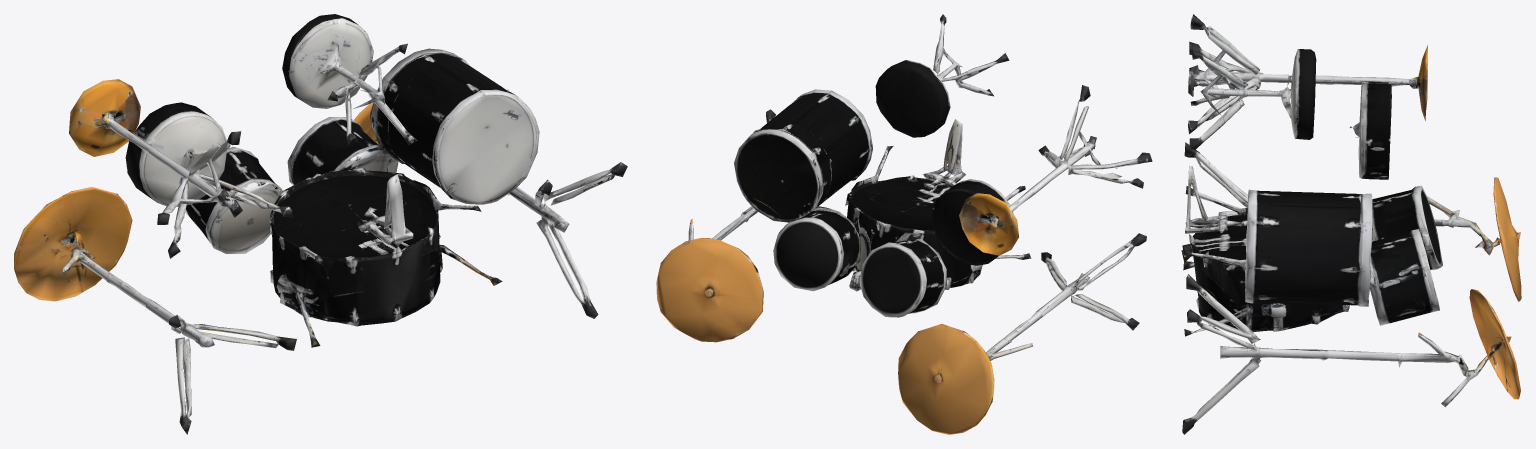
Rendered from drumset_main.glb.
3 renders of one model, left to right at view 1: azimuth 30°, elevation 25°; view 2: azimuth 150°, elevation 25°; view 3: azimuth 270°, elevation 25°, orthographic. The views are drawn at different scales.
Parts seen in each view (by area): view 1: Mesh1.0; view 2: Mesh1.0; view 3: Mesh1.0.
Boxes of the visible parts, x1,y1,x2,y2 form: Mesh1.0: (14,14,627,434); Mesh1.0: (656,14,1152,434); Mesh1.0: (1181,14,1521,434).
Size of the model in its own units: 2.03 by 1.41 by 1.35.
1 material, 1 textured.
